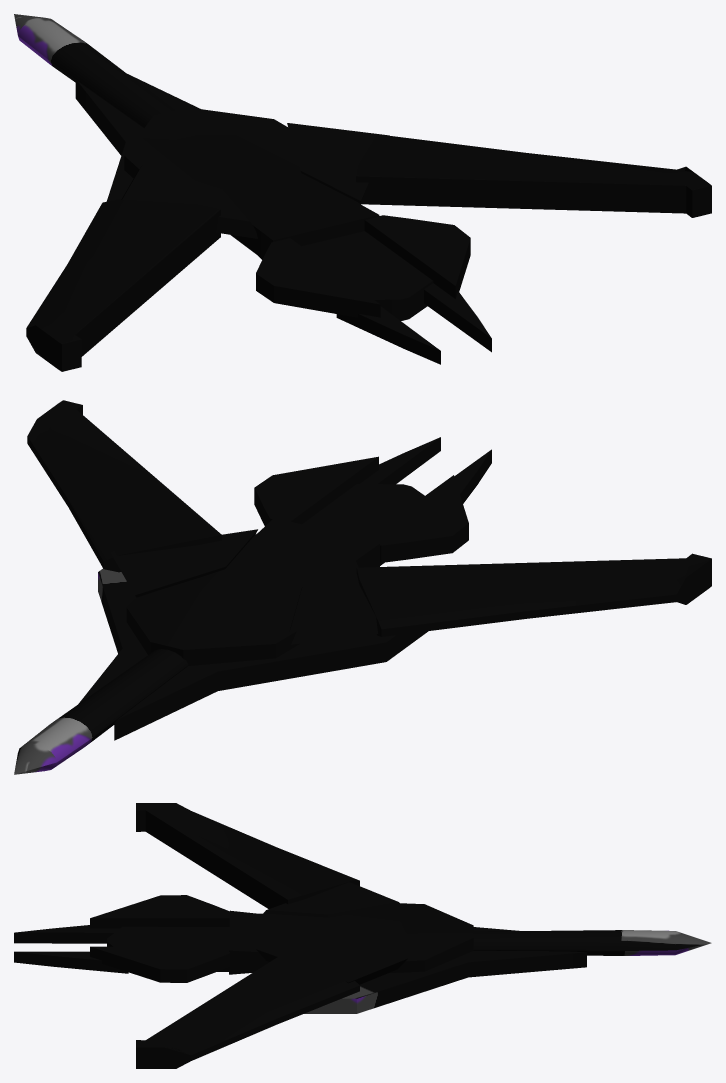
File: ErgoShip.fbx
3 renders of one model, top to bottom at view 1: azimuth 30°, elevation 25°; view 2: azimuth 150°, elevation 25°; view 3: azimuth 270°, elevation 25°, orthographic. The views are drawn at different scales.
Visible parts, largest first — view 1: ErgoShip; view 2: ErgoShip; view 3: ErgoShip.
Boxes of the visible parts, x1,y1,x2,y2 form: ErgoShip: [14, 14, 711, 371]; ErgoShip: [14, 400, 711, 774]; ErgoShip: [14, 803, 711, 1068].
Size of the model in its own units: 1994 by 127 by 2405.
